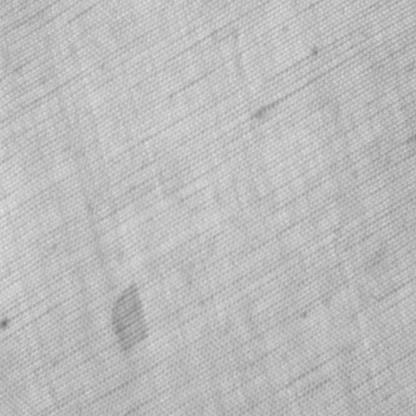oil spot: (108, 278, 150, 355)
